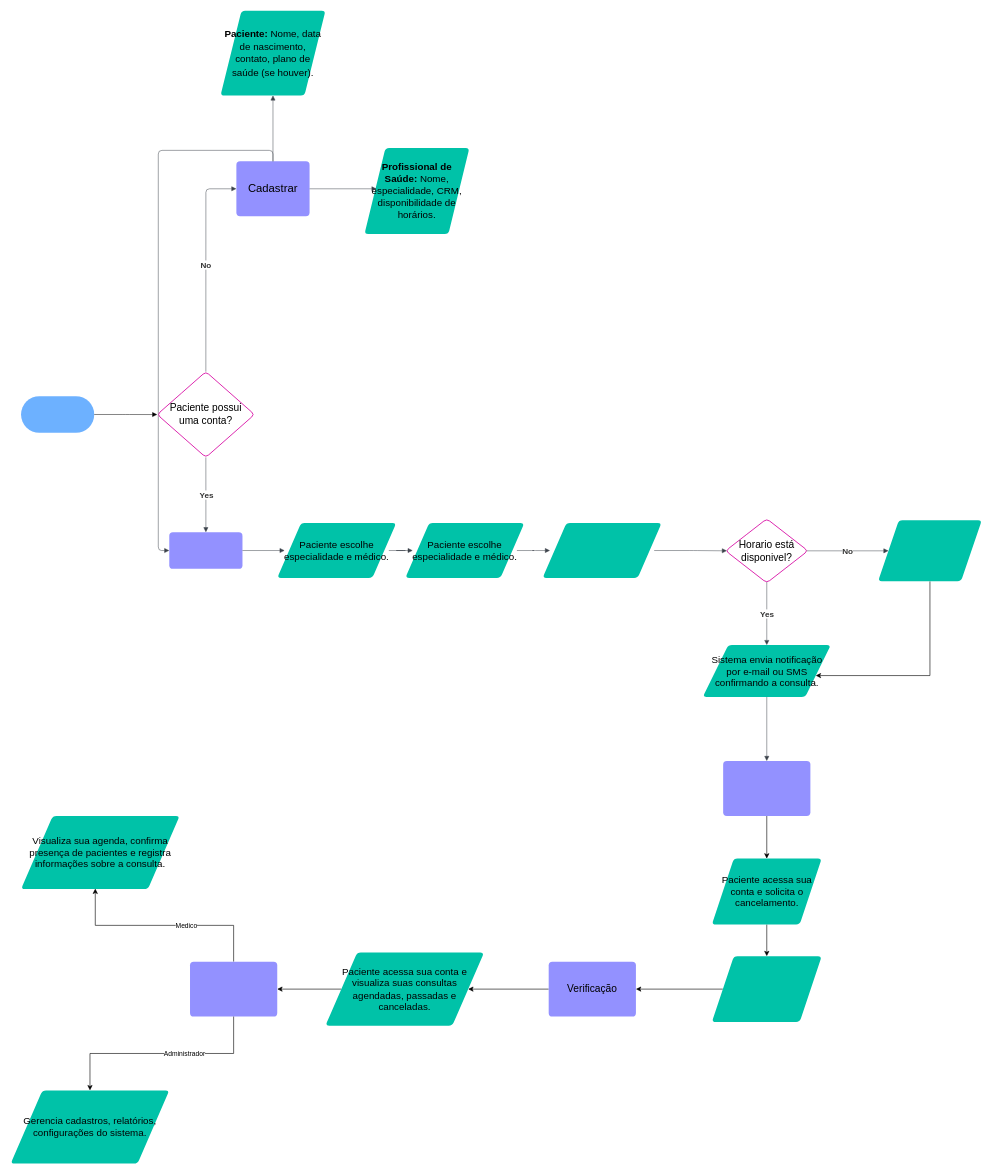
The diagram is 992 pixels wide and 1174 high, and some of its shapes have lost their labels. Each missing label, with the centre of its shape:
Agendamento: [205,550]
Cancelamento: [766,788]
Gerenciamento: [233,989]
Inicio: [57,414]
Paciente seleciona horário.: [601,550]
Sistema libera o horário e notifica o médico.: [766,989]
Sistema solicita outros horarios disponiveis: [930,550]
